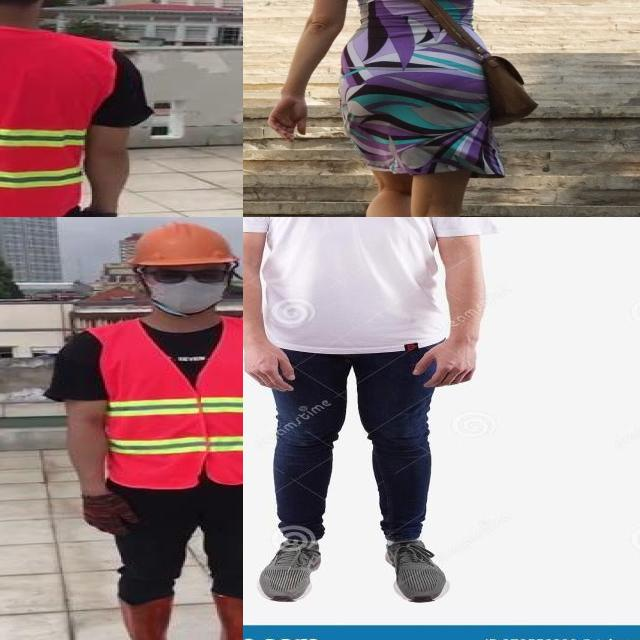boots: (110, 592, 174, 640)
face_mask: (142, 261, 233, 312)
glasses: (144, 264, 235, 288)
hand_glove: (80, 495, 141, 535)
hand_noglove: (414, 315, 486, 394), (243, 320, 303, 397)
head_helmet: (42, 217, 243, 640), (123, 222, 242, 268)
person: (243, 217, 499, 602), (0, 0, 157, 217)
vest: (90, 321, 243, 486), (0, 25, 113, 217)
